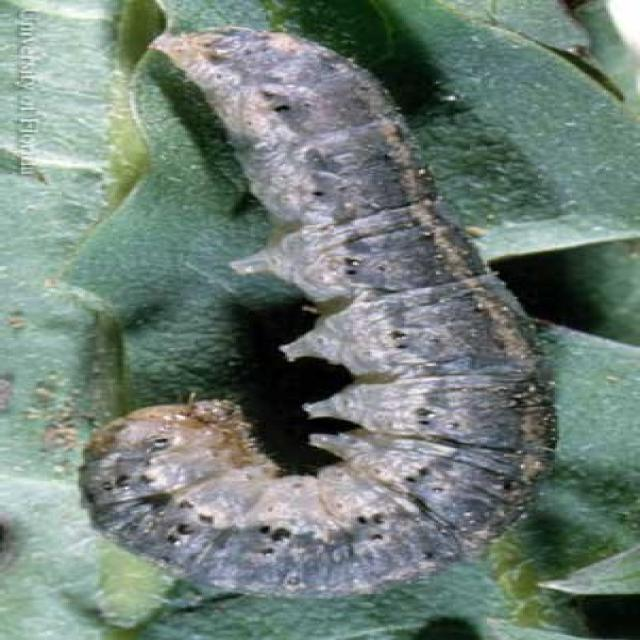black cutworm: (69, 26, 562, 598)
